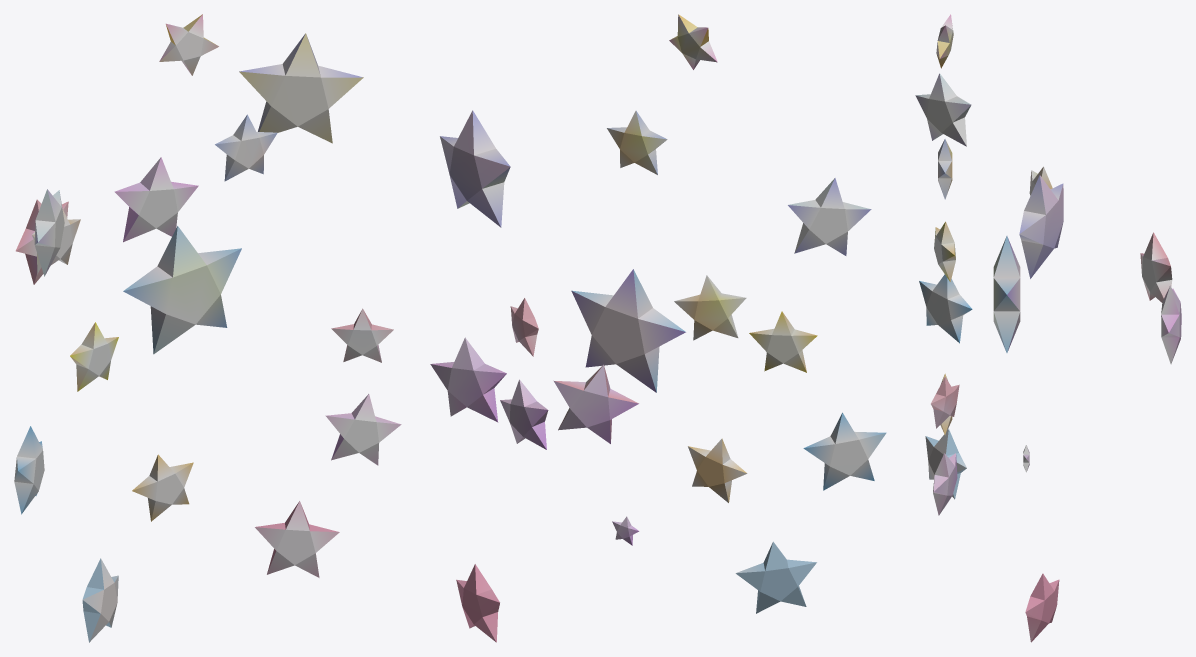
File: vc_diorama_003.fbx
3 views of the same model, side by side, from view 1: azimuth 30°, elevation 25°; view 2: azimuth 150°, elevation 25°; view 3: azimuth 270°, elevation 25° (orthographic). The views are drawn at different scales.
Parts seen in each view (by area): view 1: Cylinder, Cylinder.003, Cylinder.014, Cylinder.009, Cylinder.012, Cylinder.010, Cylinder.006, Cylinder.011, Cylinder.008, Cylinder.001, Cylinder.002, Cylinder.004 (+3 smaller); view 2: Cylinder, Cylinder.003, Cylinder.014, Cylinder.001, Cylinder.013, Cylinder.002, Cylinder.011, Cylinder.007, Cylinder.008, Cylinder.009, Cylinder.010, Cylinder.006 (+3 smaller); view 3: Cylinder.003, Cylinder, Cylinder.001, Cylinder.002, Cylinder.013, Cylinder.009, Cylinder.014, Cylinder.011, Cylinder.012, Cylinder.008, Cylinder.005, Cylinder.006 (+1 smaller).
Part boxes in pixels (<box>): Cylinder: <box>123,226,241,354</box>; Cylinder.003: <box>239,33,363,143</box>; Cylinder.014: <box>114,157,198,242</box>; Cylinder.009: <box>255,501,339,577</box>; Cylinder.012: <box>325,394,401,465</box>; Cylinder.010: <box>132,454,193,521</box>; Cylinder.006: <box>215,114,277,181</box>; Cylinder.011: <box>82,558,118,642</box>; Cylinder.008: <box>70,322,118,391</box>; Cylinder.001: <box>34,189,64,276</box>; Cylinder.002: <box>14,426,44,514</box>; Cylinder.004: <box>159,14,218,75</box>; Cylinder: <box>571,269,685,392</box>; Cylinder.003: <box>440,110,510,227</box>; Cylinder.014: <box>430,337,506,422</box>; Cylinder.001: <box>788,178,871,255</box>; Cylinder.013: <box>553,364,638,443</box>; Cylinder.002: <box>803,412,886,490</box>; Cylinder.011: <box>735,541,816,613</box>; Cylinder.007: <box>674,275,746,340</box>; Cylinder.008: <box>749,311,817,372</box>; Cylinder.009: <box>456,564,499,642</box>; Cylinder.010: <box>688,438,747,502</box>; Cylinder.006: <box>607,110,667,174</box>; Cylinder.003: <box>1019,175,1063,278</box>; Cylinder: <box>993,236,1020,352</box>; Cylinder.001: <box>915,73,971,146</box>; Cylinder.002: <box>919,274,972,343</box>; Cylinder.013: <box>1140,232,1172,302</box>; Cylinder.009: <box>1025,573,1059,642</box>; Cylinder.014: <box>1161,286,1181,364</box>; Cylinder.011: <box>925,429,966,499</box>; Cylinder.012: <box>933,453,957,515</box>; Cylinder.008: <box>934,221,955,281</box>; Cylinder.005: <box>931,377,959,428</box>; Cylinder.006: <box>938,139,952,199</box>.
Bounding box in the file's own units: 83.6 × 127 × 55.78.
